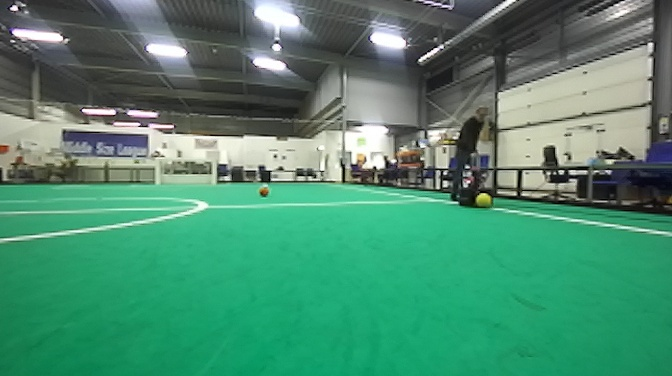ball: (474, 192, 493, 210), (257, 183, 271, 199)
goal: (155, 159, 218, 187)
goalpost: (155, 159, 162, 187), (211, 159, 218, 186)
human: (445, 103, 493, 202)
robot: (457, 151, 491, 207)
